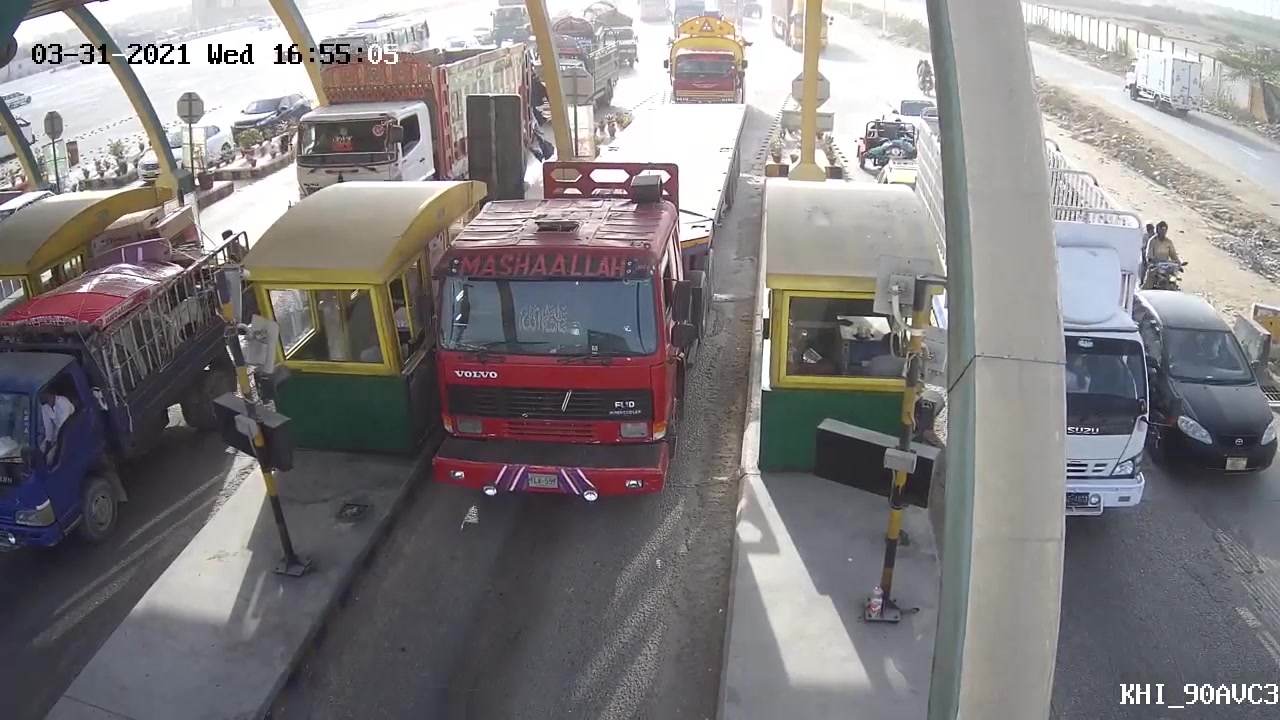F5: (422, 92, 738, 498)
